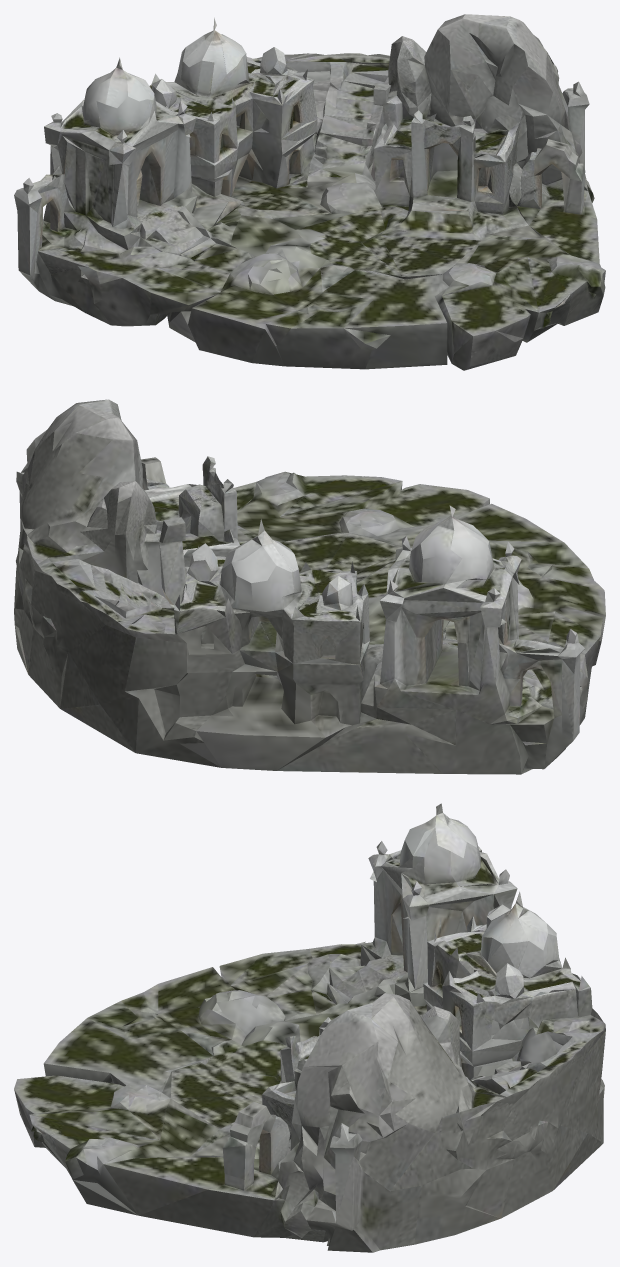
File: xinlenal.glb
3 renders of one model, top to bottom at view 1: azimuth 30°, elevation 25°; view 2: azimuth 150°, elevation 25°; view 3: azimuth 270°, elevation 25°, orthographic. The views are drawn at different scales.
Bounding box in the file's own units: 1.89 × 0.7284 × 1.68.
1 material, 1 textured.
